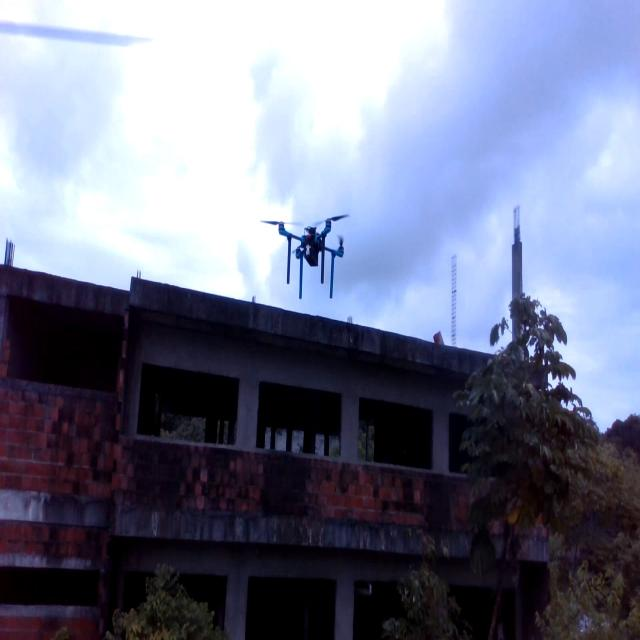-uav-: (257, 194, 359, 305)
